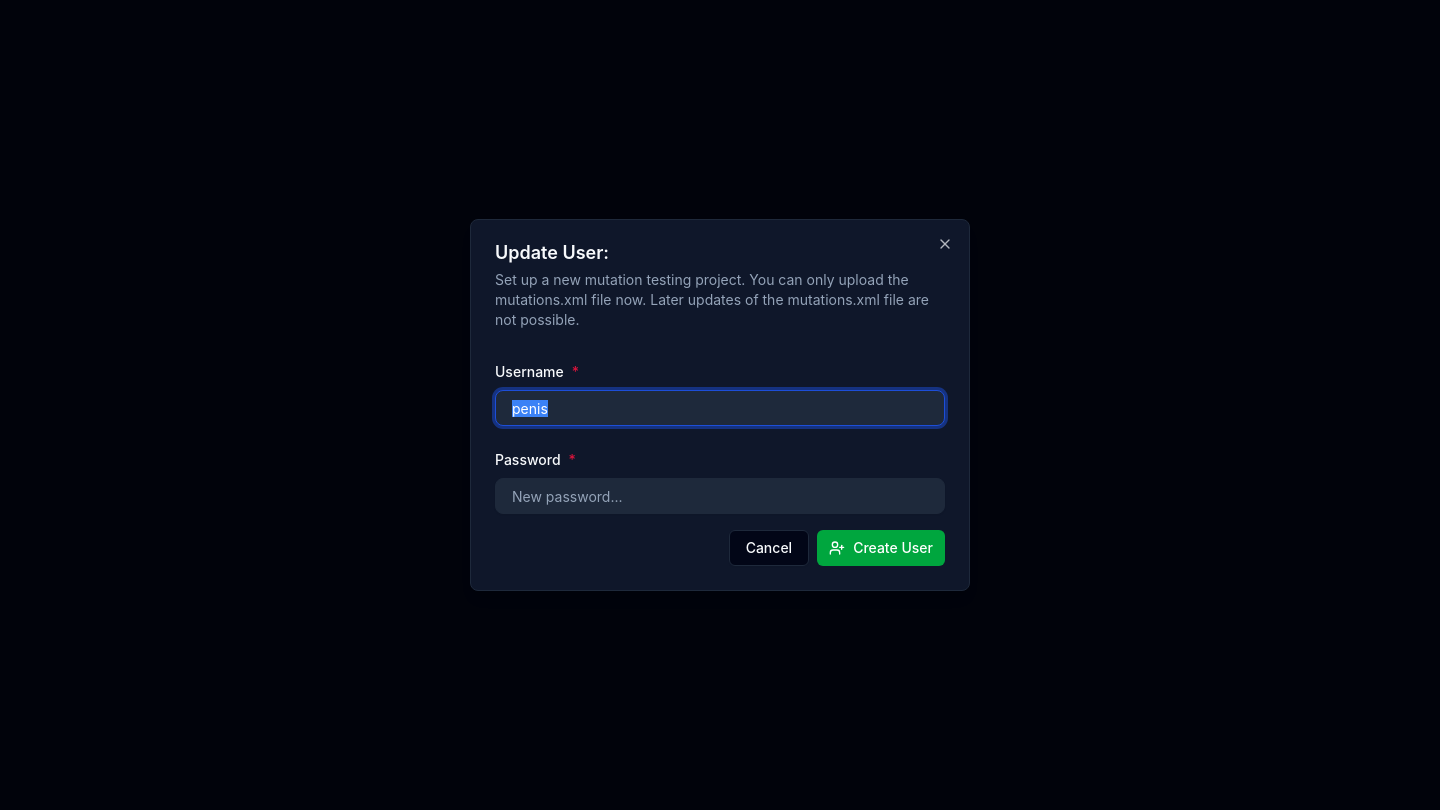
UserUpdateModel › shows validation error when password is empty
Click the button "Create User": point(881, 548) [817,530,945,566]
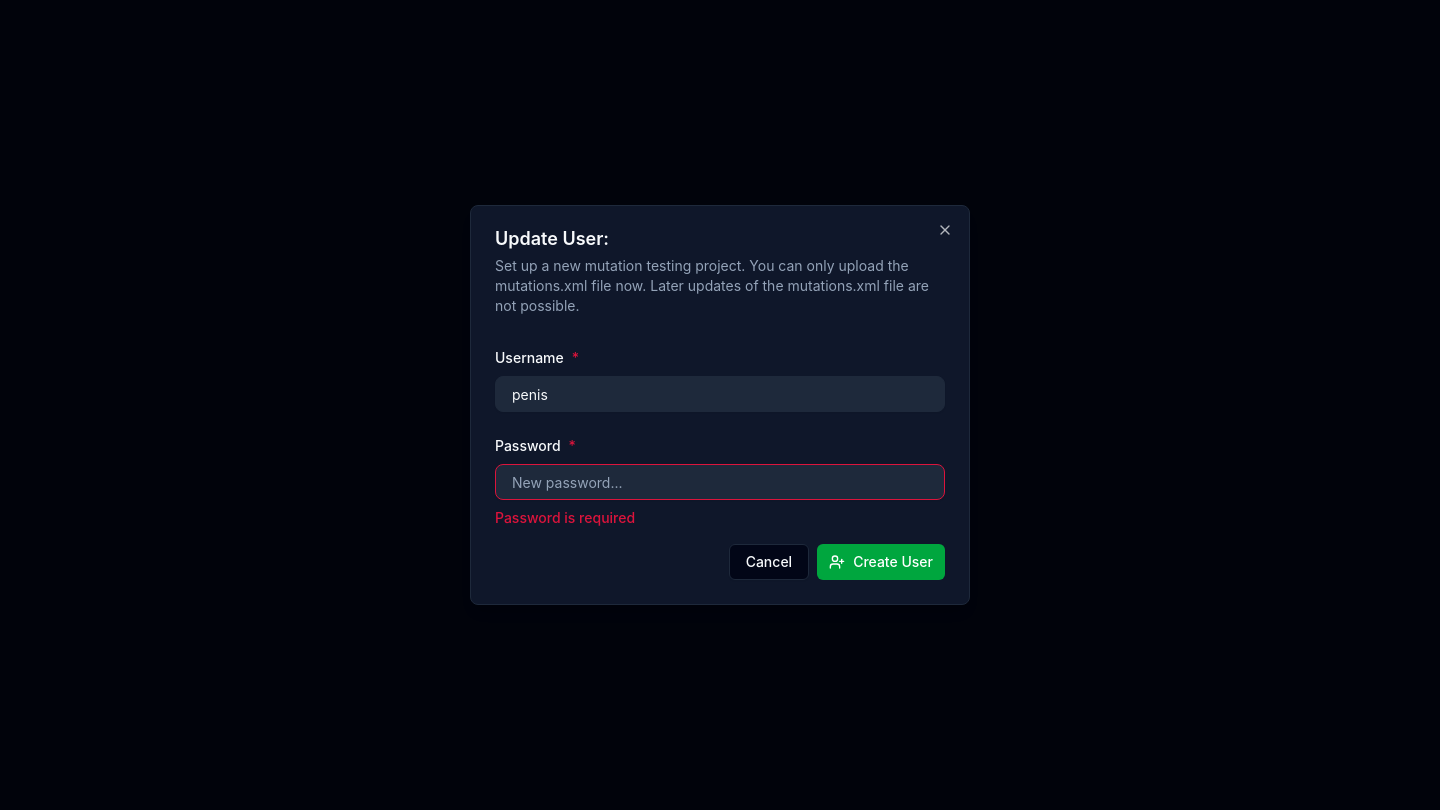
Expected: the text "Password is required" is shown, [495,509,635,526]
